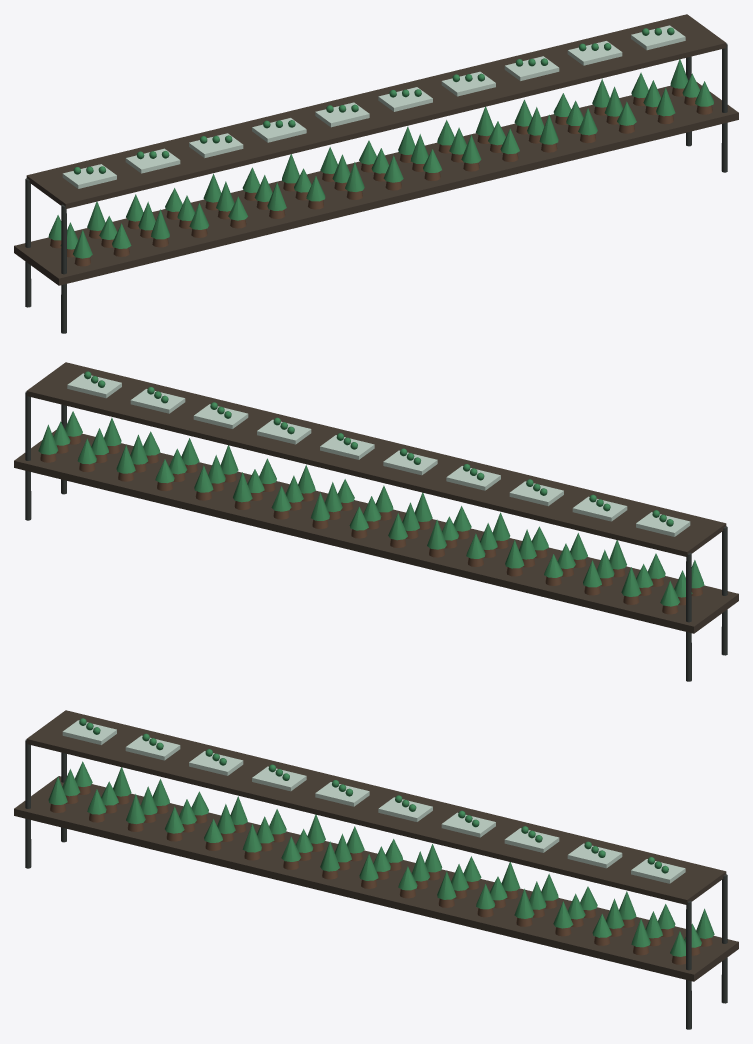
File: bed-dendrobium.glb
3 views of the same model, one above another, from view 1: azimuth 30°, elevation 25°; view 2: azimuth 150°, elevation 25°; view 3: azimuth 330°, elevation 25° (orthographic).
Visible parts, largest first — view 1: bed-dendrobium; view 2: bed-dendrobium; view 3: bed-dendrobium.
Boxes of the visible parts, <box> form: bed-dendrobium: <box>14,14,738,333</box>; bed-dendrobium: <box>14,362,738,681</box>; bed-dendrobium: <box>14,710,738,1029</box>.
Size of the model in its own units: 7 by 1.4 by 0.8.
